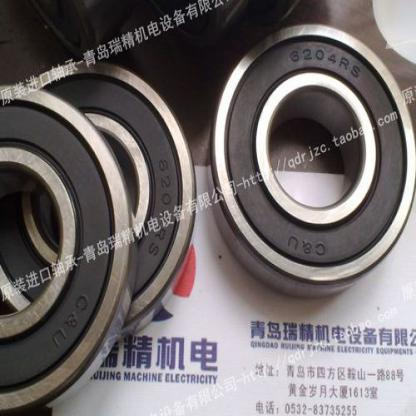FOD: (202, 16, 415, 308), (0, 57, 202, 346), (0, 79, 132, 416)
